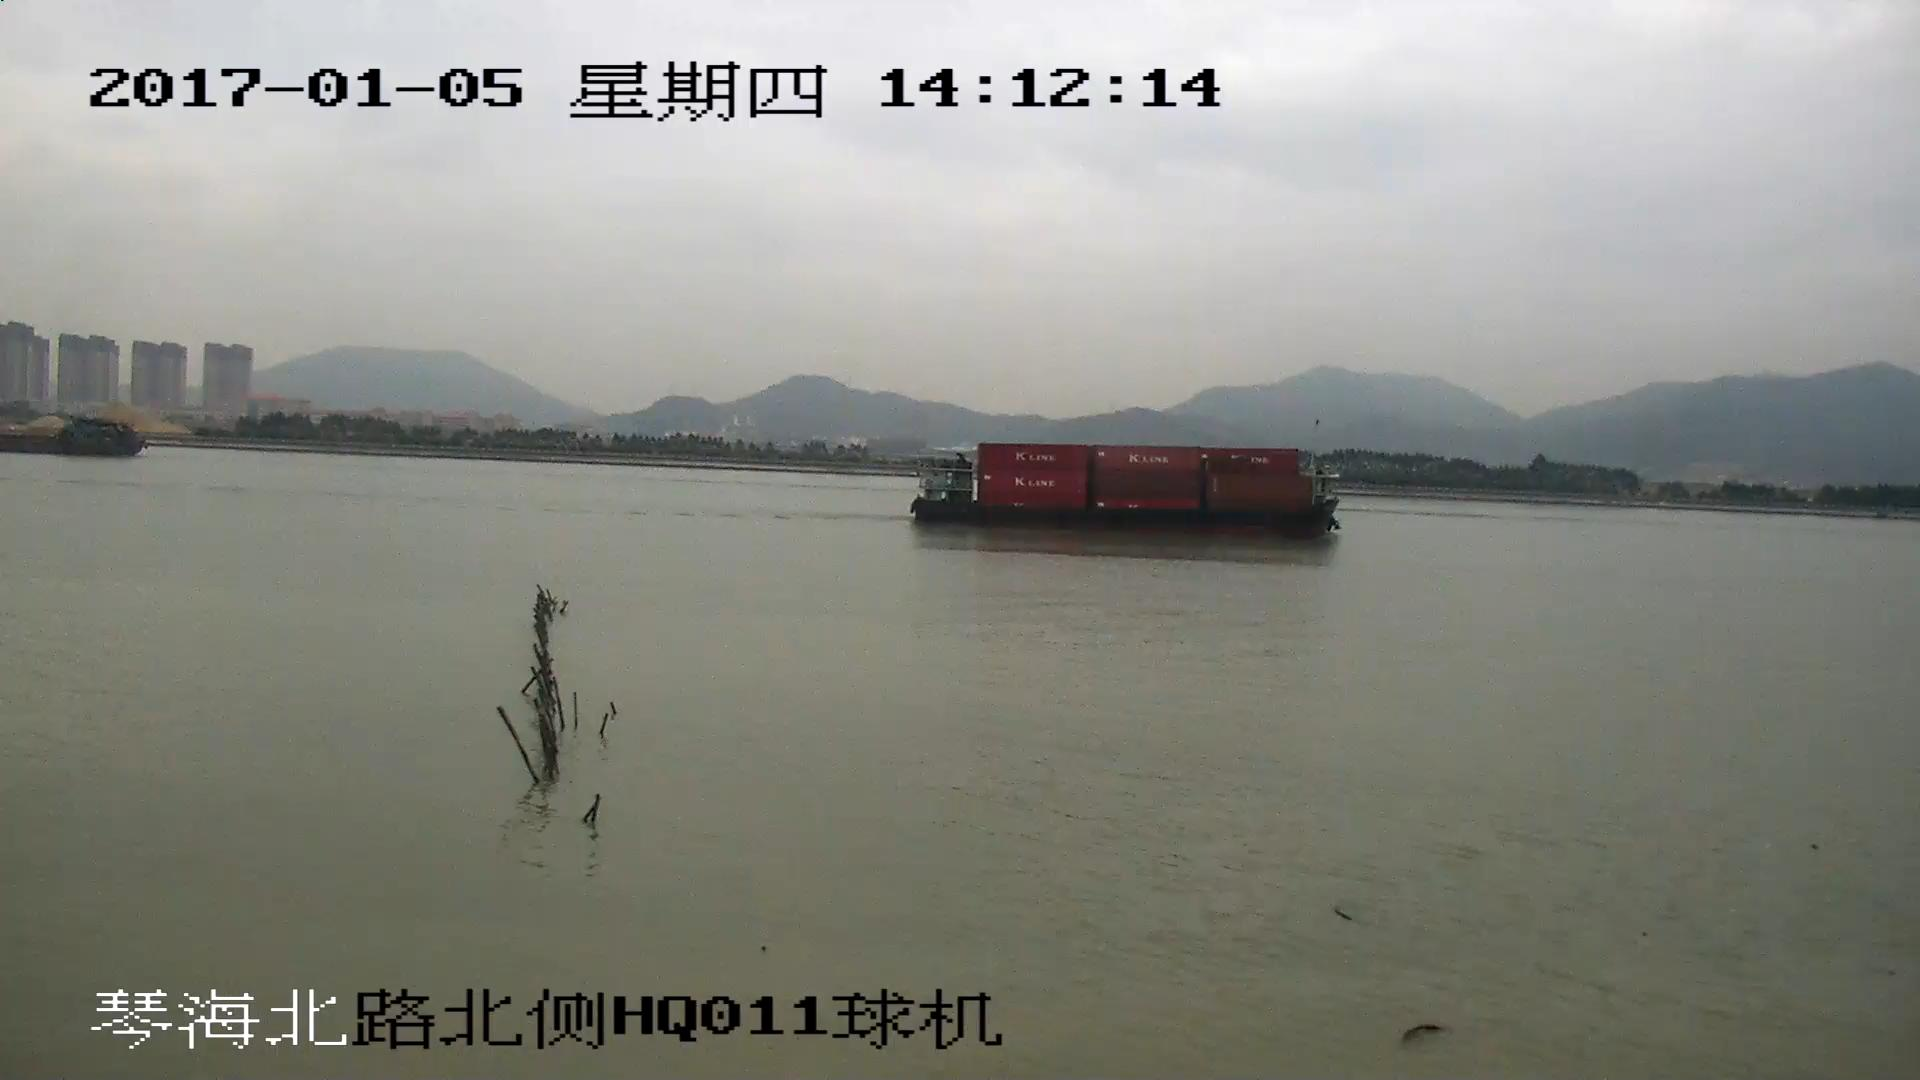bulk cargo carrier: (1, 425, 149, 457)
container ship: (912, 445, 1343, 540)
